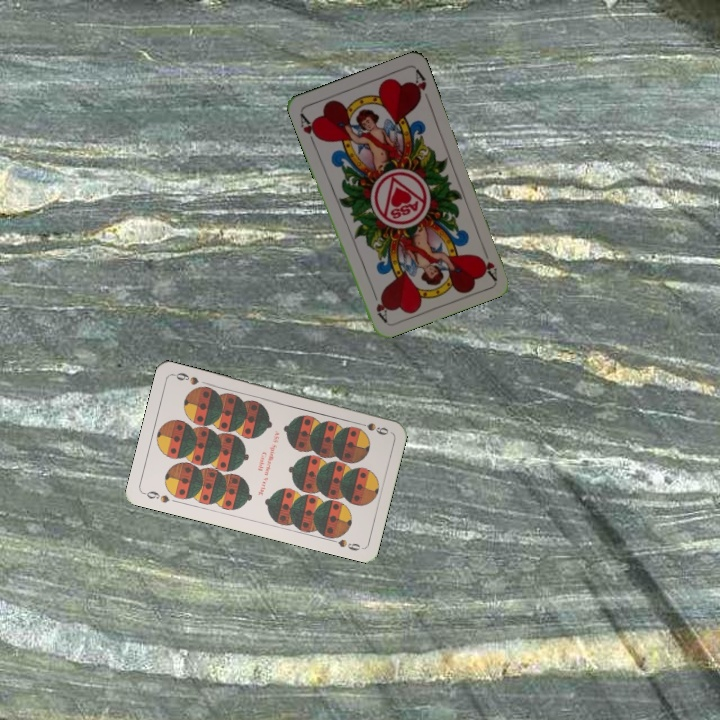HA: (296, 109, 322, 148), (475, 242, 500, 282)
S9: (352, 418, 391, 438), (140, 487, 172, 505)
